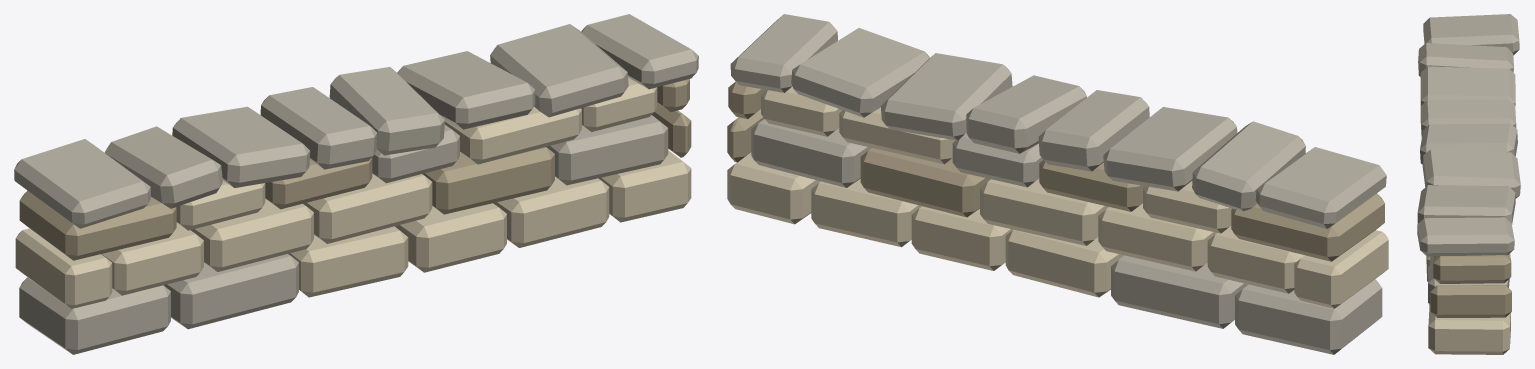
Rendered from stone_wall.glb.
3 views of the same model, side by side, from view 1: azimuth 30°, elevation 25°; view 2: azimuth 150°, elevation 25°; view 3: azimuth 270°, elevation 25° (orthographic). The views are drawn at different scales.
Visible parts, largest first — view 1: LOD0; view 2: LOD0; view 3: LOD0.
Part boxes in pixels (x1=…): LOD0: x1=14, y1=14, x2=698, y2=354; LOD0: x1=727, y1=14, x2=1388, y2=354; LOD0: x1=1417, y1=14, x2=1520, y2=354.
Size of what is drawn, in the model's own units: 3.99 by 1.02 by 0.7676.
Materials: 1 (1 with a texture image).
